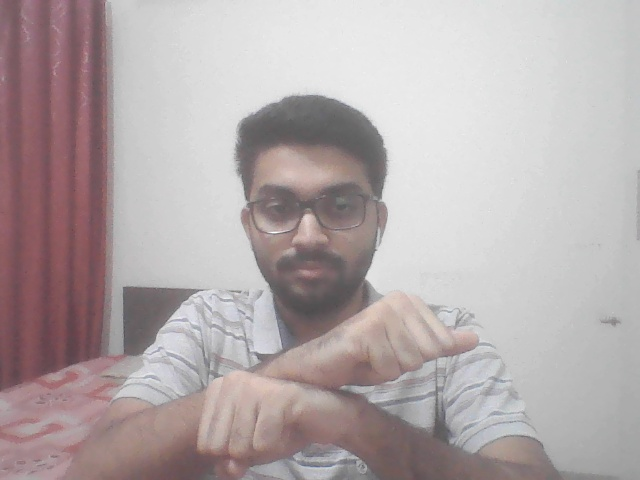work: (154, 282, 495, 478)
